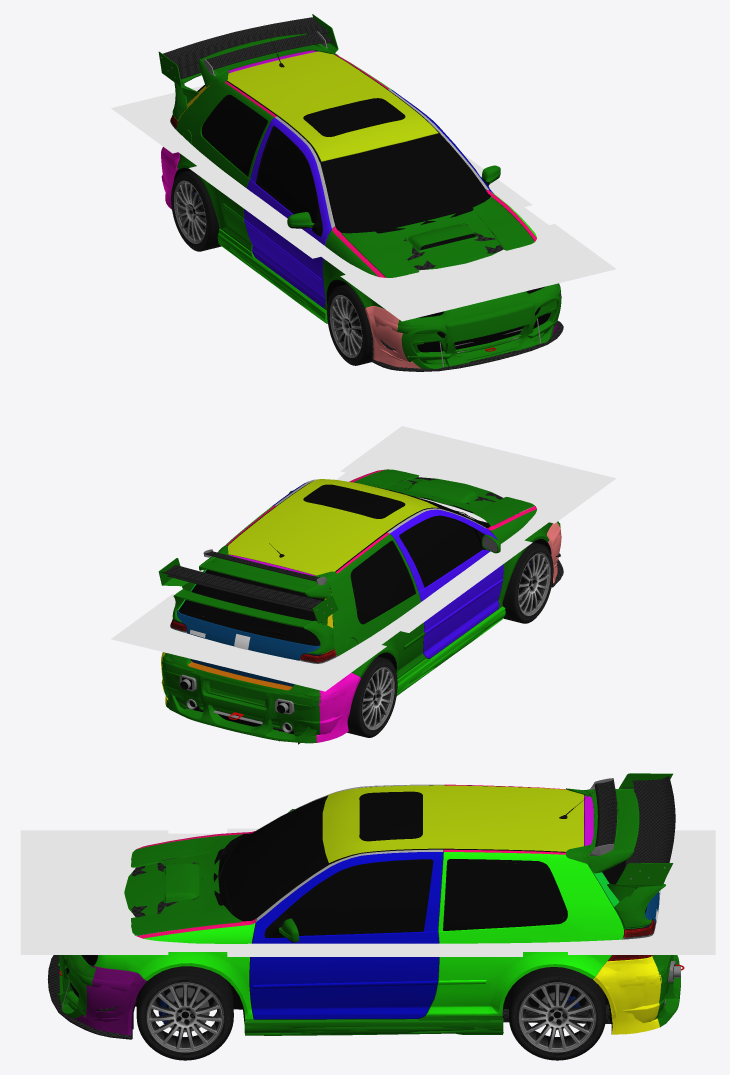
The model's file is golf_32.fbx.
The picture shows the model from 3 angles, top to bottom: view 1: azimuth 30°, elevation 25°; view 2: azimuth 150°, elevation 25°; view 3: azimuth 270°, elevation 25°; orthographic projection. The views are drawn at different scales.
Parts seen in each view (by area): view 1: vw_golfr32_03_body_body_, neon (×4), vw_golfr32_03_glassF_window_, shadow, vw_golfr32_03_hooda_body_, vw_golfr32_03_bumperFf_body_, vw_golfr32_03_glassRF_window_, vw_golfr32_03_bumperFg_body_, vw_golfr32_03_wingrace_carbon_fiber_, vw_golfr32_03_wheel_tire_ (×2), vw_golfr32_03_glassRR_window_, vw_golfr32_03_wheel_rim_ (×2) (+14 smaller); view 2: vw_golfr32_03_body_body_, neon (×3), shadow, vw_golfr32_03_bumperRf_body_, vw_golfr32_03_glassR_window_, vw_golfr32_03_glassRF_window_, vw_golfr32_03_wheel_tire_ (×2), vw_golfr32_03_glassRR_window_, vw_golfr32_03_wheel_rim_ (×2), vw_golfr32_03_wingrace_carbon_fiber_, vw_golfr32_03_wingf_body_, vw_golfr32_03_glassT_window_ (+14 smaller); view 3: vw_golfr32_03_body_body_, neon (×3), shadow, vw_golfr32_03_glassLF_window_, vw_golfr32_03_glassF_window_, vw_golfr32_03_wheel_tire_ (×2), vw_golfr32_03_glassLR_window_, vw_golfr32_03_wheel_rim_ (×2), vw_golfr32_03_hooda_body_, vw_golfr32_03_wingrace_carbon_fiber_, vw_golfr32_03_bumperRf_body_, vw_golfr32_03_glassT_window_ (+25 smaller).
Boxes of the visible parts, box(x1,y1,x2,y2) form: vw_golfr32_03_body_body_: box(174, 50, 536, 310); neon (×4): box(111, 86, 616, 321); vw_golfr32_03_glassF_window_: box(324, 136, 484, 228); shadow: box(163, 126, 566, 298); vw_golfr32_03_hooda_body_: box(342, 197, 534, 276); vw_golfr32_03_bumperFf_body_: box(367, 293, 557, 368); vw_golfr32_03_glassRF_window_: box(258, 128, 317, 222); vw_golfr32_03_bumperFg_body_: box(366, 285, 561, 363); vw_golfr32_03_wingrace_carbon_fiber_: box(162, 17, 334, 79); vw_golfr32_03_wheel_tire_ (×2): box(171, 170, 371, 365); vw_golfr32_03_glassRR_window_: box(203, 97, 265, 171); vw_golfr32_03_wheel_rim_ (×2): box(174, 181, 362, 357); vw_golfr32_03_body_body_: box(173, 469, 552, 678); neon (×3): box(111, 426, 616, 691); shadow: box(163, 449, 566, 666); vw_golfr32_03_bumperRf_body_: box(165, 668, 358, 743); vw_golfr32_03_glassR_window_: box(181, 570, 321, 641); vw_golfr32_03_glassRF_window_: box(400, 517, 481, 584); vw_golfr32_03_wheel_tire_ (×2): box(347, 542, 553, 737); vw_golfr32_03_glassRR_window_: box(352, 543, 412, 621); vw_golfr32_03_wheel_rim_ (×2): box(362, 553, 550, 730); vw_golfr32_03_wingrace_carbon_fiber_: box(161, 565, 322, 611); vw_golfr32_03_wingf_body_: box(172, 588, 334, 654); vw_golfr32_03_glassT_window_: box(305, 485, 403, 518); vw_golfr32_03_body_body_: box(94, 784, 659, 1019); neon (×3): box(20, 830, 715, 956); shadow: box(53, 833, 676, 951); vw_golfr32_03_glassLF_window_: box(287, 861, 431, 933); vw_golfr32_03_glassF_window_: box(227, 797, 324, 917); vw_golfr32_03_wheel_tire_ (×2): box(136, 966, 605, 1060); vw_golfr32_03_glassLR_window_: box(448, 861, 564, 926); vw_golfr32_03_wheel_rim_ (×2): box(146, 982, 595, 1052); vw_golfr32_03_hooda_body_: box(124, 834, 242, 935); vw_golfr32_03_wingrace_carbon_fiber_: box(622, 776, 675, 868); vw_golfr32_03_bumperRf_body_: box(596, 955, 680, 1034); vw_golfr32_03_glassT_window_: box(361, 792, 421, 840).
Size of the model in its own units: 3.8 by 1.7 by 4.75.
